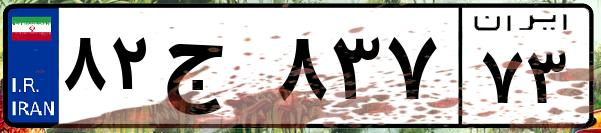2: (110, 28, 158, 98)
3: (330, 28, 385, 110), (525, 38, 570, 115)
7: (385, 28, 445, 110), (475, 38, 525, 113)
8: (270, 28, 330, 110), (57, 26, 110, 100)
ج: (158, 20, 270, 120)
